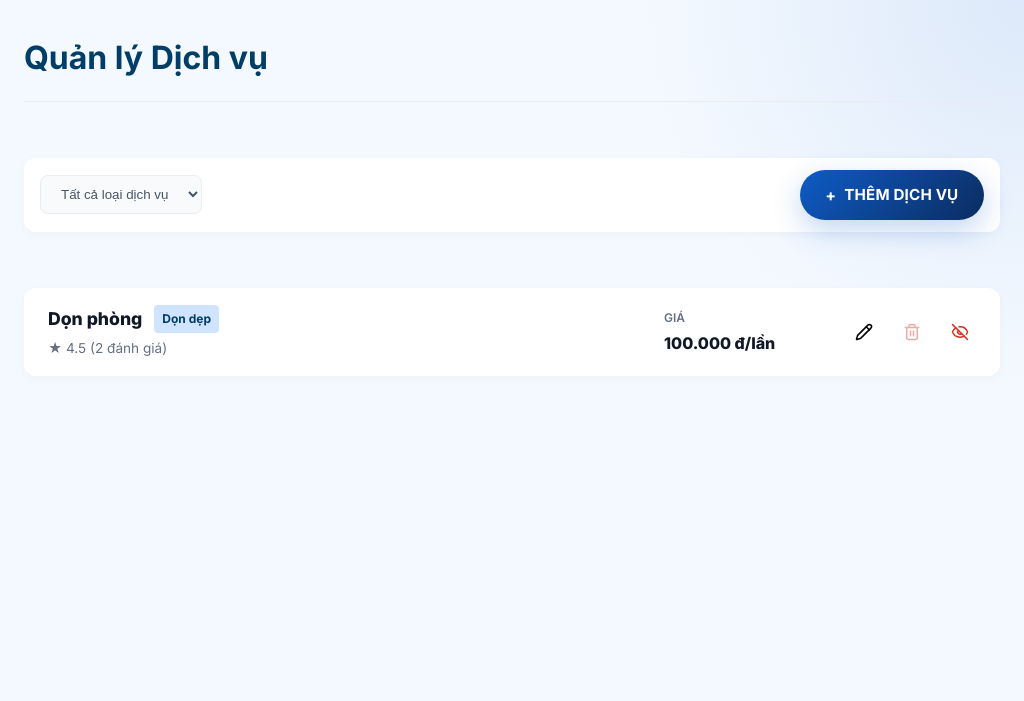
Test: ServiceManagement › bấm THÊM DỊCH VỤ mở modal tạo mới
This screenshot has width=1024, height=701.
expect the text "Dọn phòng" is shown: met, box [48,304,142,333]
Click the button "+ THÊM DỊCH VỤ" at (892, 195), box [800,170,984,220]
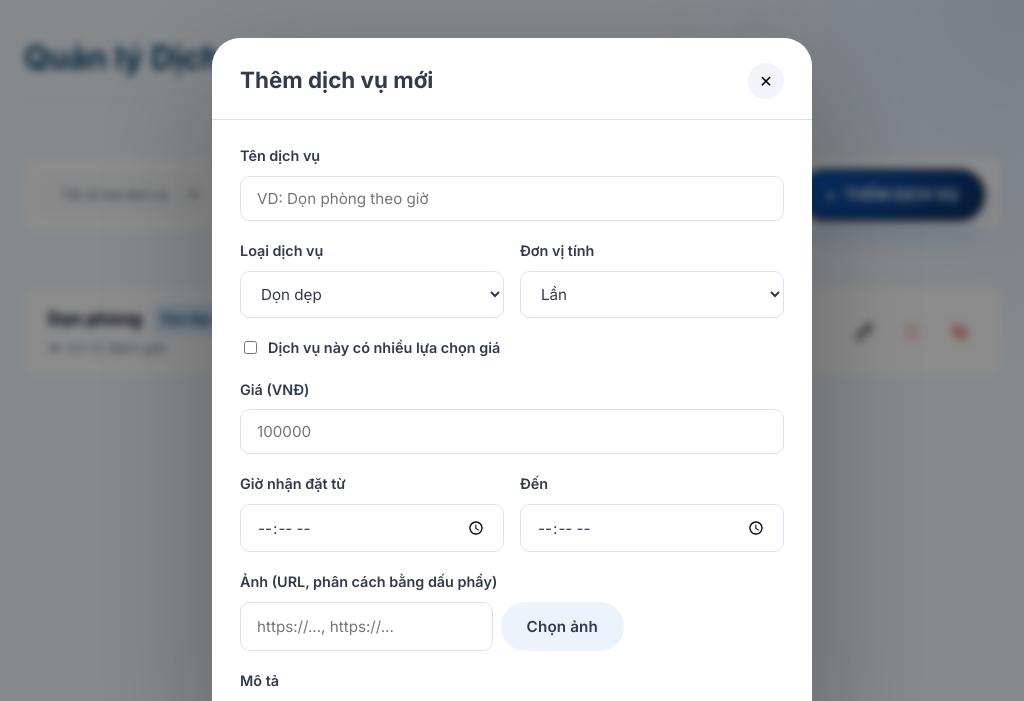
expect the heading "Thêm dịch vụ mới" is shown: met, box [240,62,433,99]
